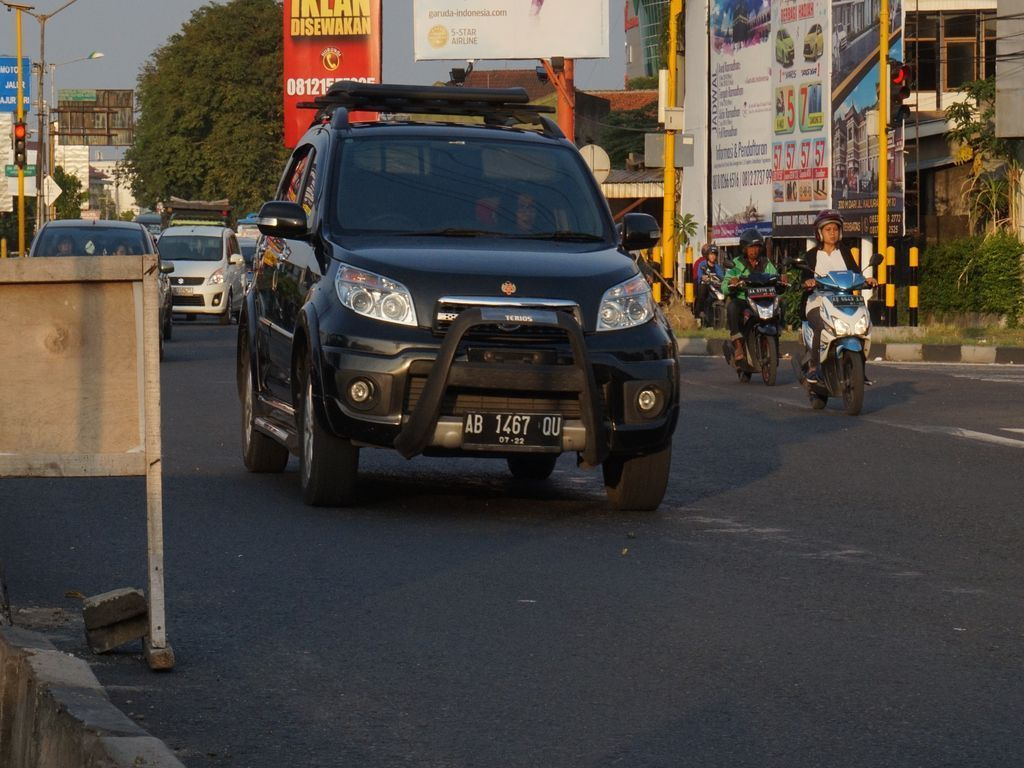plate: (465, 415, 561, 444)
